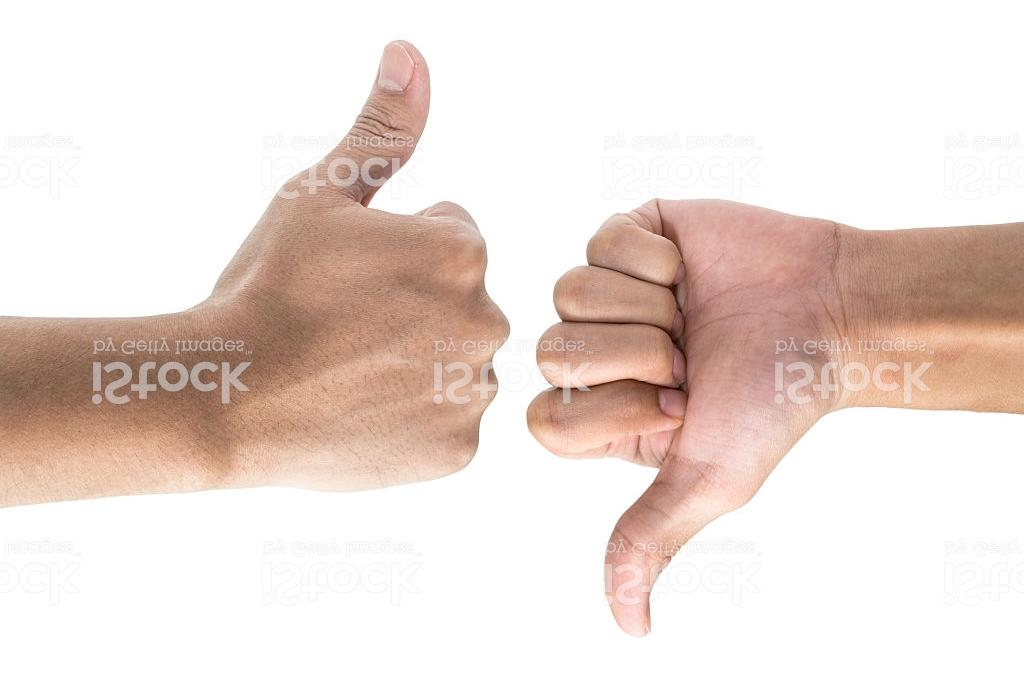thumbsdown: (522, 192, 809, 639)
